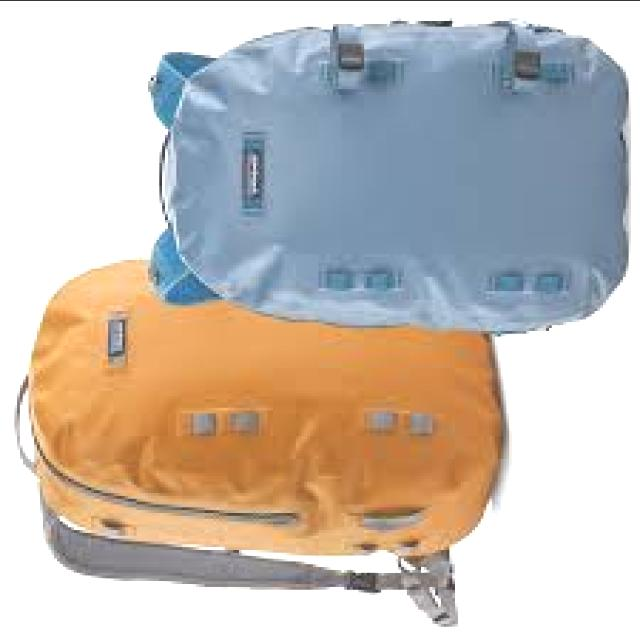backpack: (13, 258, 505, 630), (146, 19, 630, 337)
